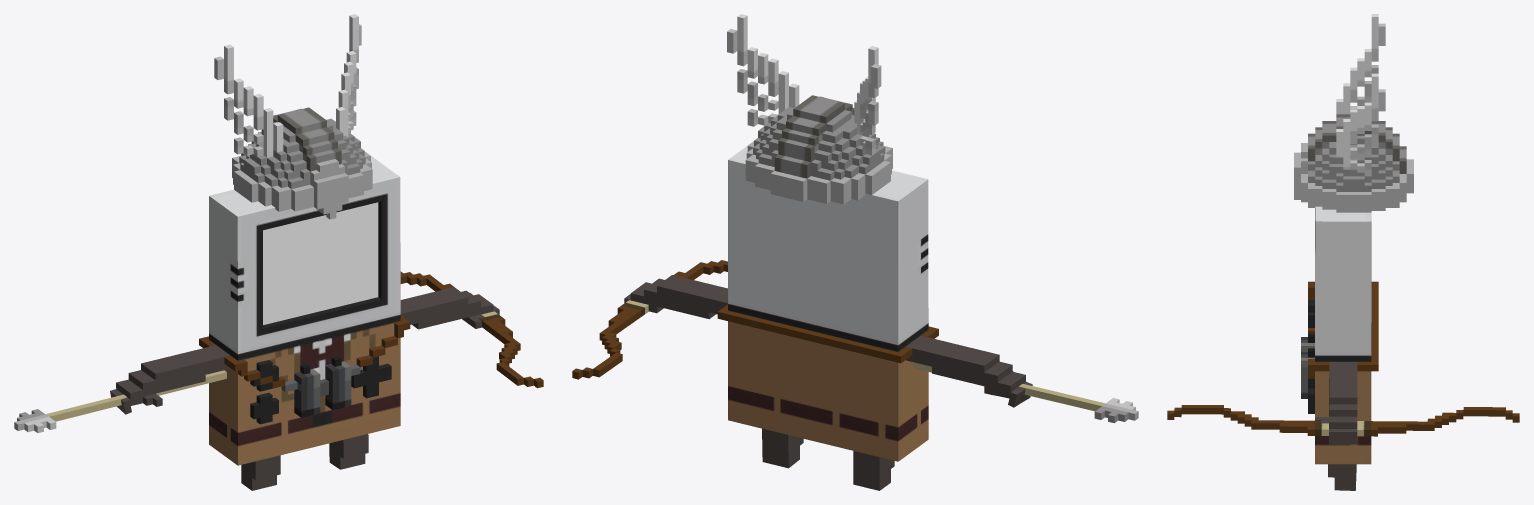
The model's file is MetaBoy #825.obj.
3 views of the same model, side by side, from view 1: azimuth 30°, elevation 25°; view 2: azimuth 150°, elevation 25°; view 3: azimuth 270°, elevation 25° (orthographic). The views are drawn at different scales.
Parts seen in each view (by area): view 1: Body_1, Hat_WingedHelmet_21, Body.Face_3, Body.Arms_2, Neck_Binoculars_0, Body.Legs_4, Weapon_Bow_2, Weapon_Arrow_9; view 2: Body_1, Hat_WingedHelmet_21, Body.Arms_2, Body.Legs_4, Neck_Binoculars_0, Weapon_Bow_2, Weapon_Arrow_9; view 3: Hat_WingedHelmet_21, Body_1, Weapon_Bow_2, Body.Arms_2, Neck_Binoculars_0, Body.Legs_4.
Part boxes in pixels (x1,y1,x2,y2): Body_1: (209, 156, 400, 465); Hat_WingedHelmet_21: (214, 14, 372, 219); Body.Face_3: (263, 202, 378, 324); Body.Arms_2: (110, 287, 499, 414); Neck_Binoculars_0: (199, 315, 410, 417); Body.Legs_4: (241, 434, 368, 490); Weapon_Bow_2: (400, 271, 543, 388); Weapon_Arrow_9: (14, 370, 226, 432); Body_1: (728, 141, 928, 461); Hat_WingedHelmet_21: (727, 14, 892, 204); Body.Arms_2: (624, 275, 1032, 407); Body.Legs_4: (762, 428, 894, 490); Neck_Binoculars_0: (717, 304, 938, 363); Weapon_Bow_2: (572, 260, 727, 379); Weapon_Arrow_9: (913, 362, 1138, 423); Hat_WingedHelmet_21: (1294, 14, 1413, 212); Body_1: (1308, 206, 1371, 464); Weapon_Bow_2: (1167, 405, 1519, 436); Body.Arms_2: (1315, 362, 1357, 444); Neck_Binoculars_0: (1301, 281, 1378, 398); Body.Legs_4: (1328, 464, 1356, 490).
Bounding box in the file's own units: 7.66 × 6.58 × 5.
9 materials, 8 textured.
